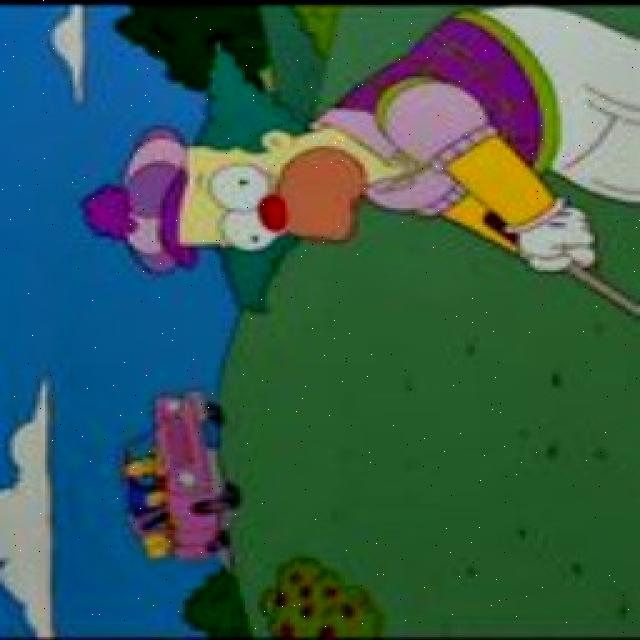Krusty the Clown: (174, 110, 386, 266)
